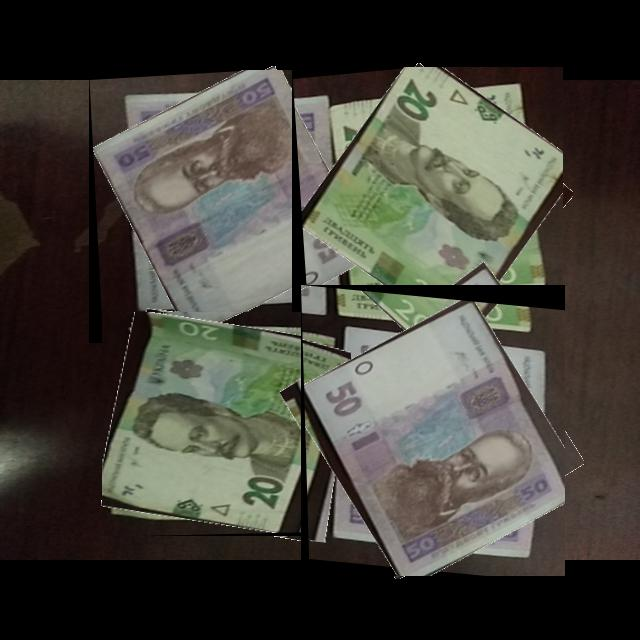20uah: (301, 67, 564, 341), (102, 312, 349, 534)
50uah: (304, 299, 566, 577), (93, 70, 361, 340)
